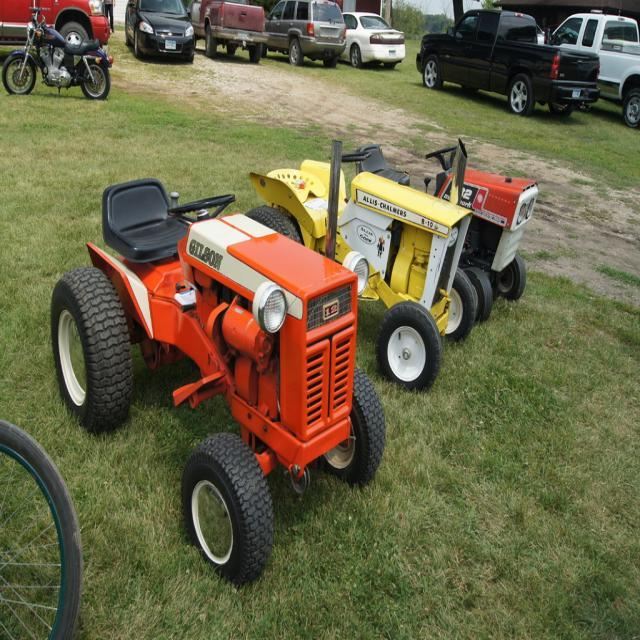bus: (13, 1, 108, 84)
